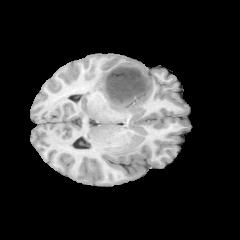glioma: (91, 60, 152, 125)
